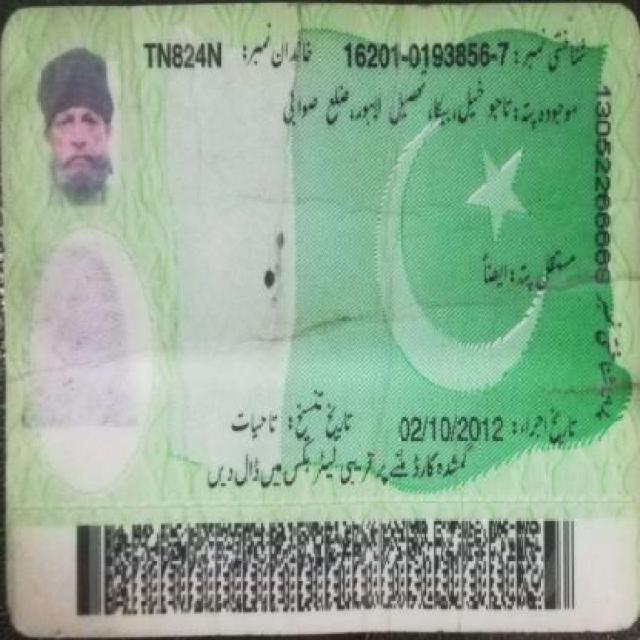Back: (12, 10, 618, 628)
